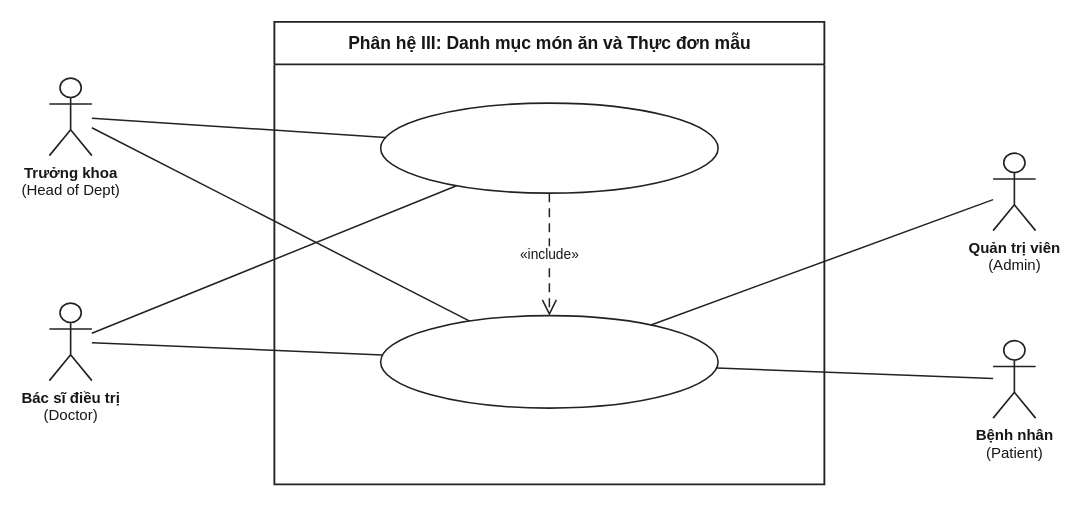
Image size: 1081x508. Some labels were removed from this diagram. The shapes that lost their labels are listed below. From the top down, each one's box as (x1, y1, x2, y2) in pixels, then its label:
(379, 102, 718, 193): UC-PLAN-01 Quản lý thực đơn mẫu
(379, 314, 718, 408): UC-FOOD-01 Quản lý và tra cứu danh mục món ăn
